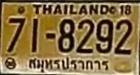1: (31, 18, 37, 52)
2: (114, 18, 131, 54), (76, 18, 93, 52)
7: (7, 18, 24, 52)
8: (57, 18, 74, 52)
9: (95, 18, 112, 52)
SPK: (25, 55, 110, 72)
